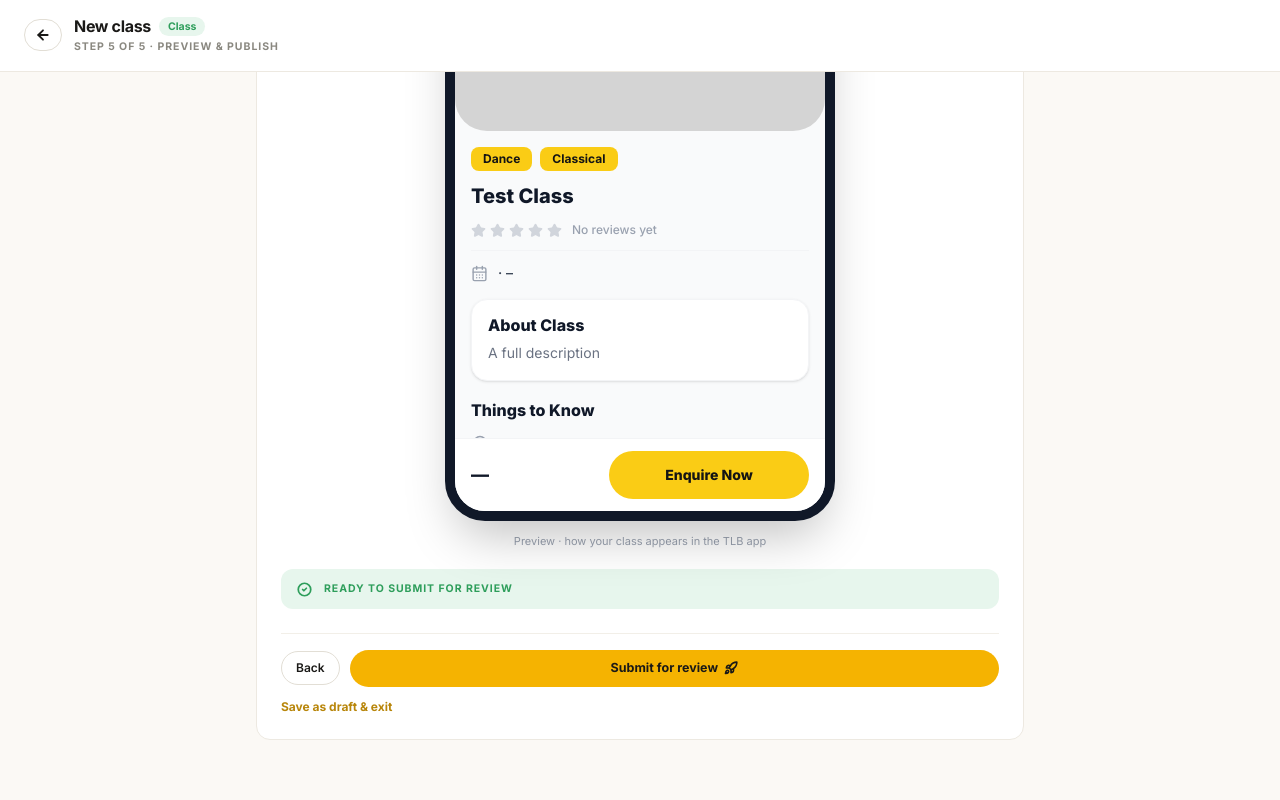
Scenario: CreateClassPreview — submit › shows success modal after successful submit
The image size is (1280, 800).
(page scrolled)
Expected: the heading "Test Class" is shown, [471,184,574,208]
Click the button "Submit for review" at (674, 668), box [350,650,999,687]
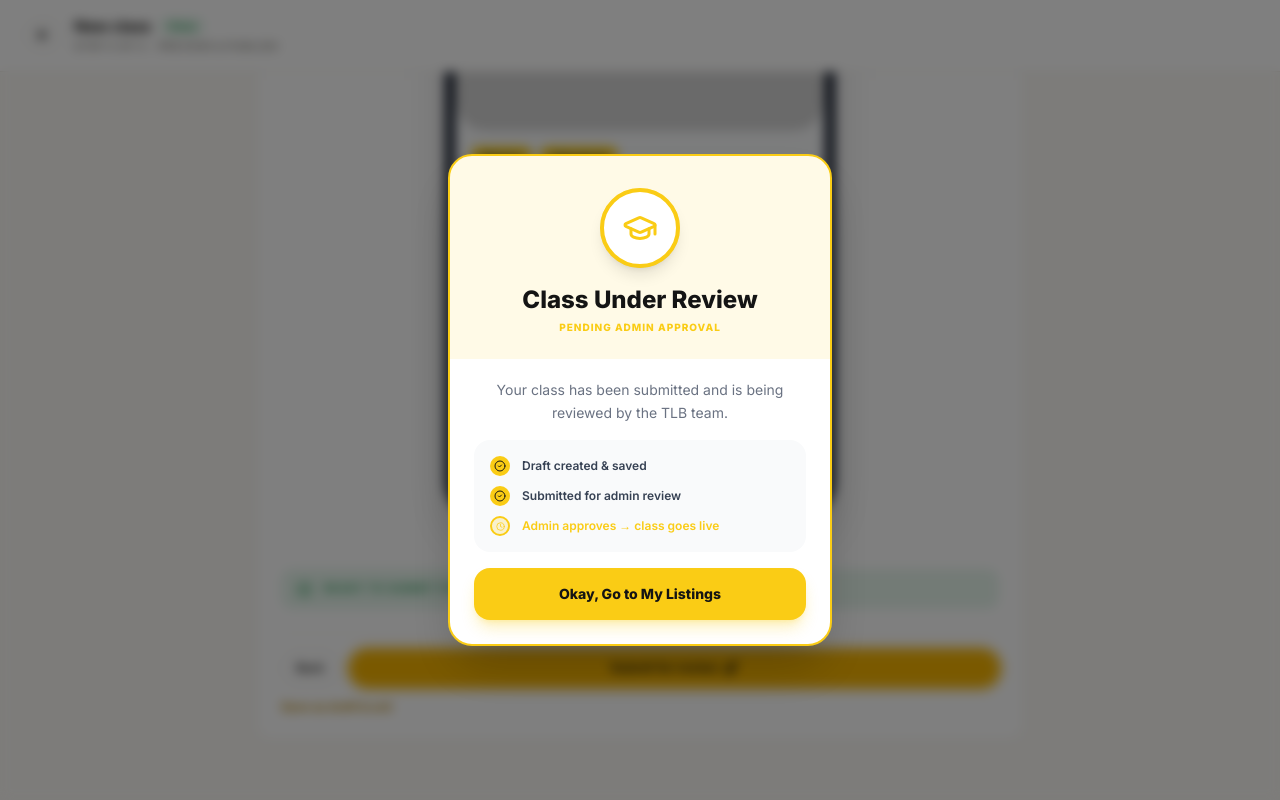
Result: the heading "Class Under Review" is shown at [522,284,758,316]
